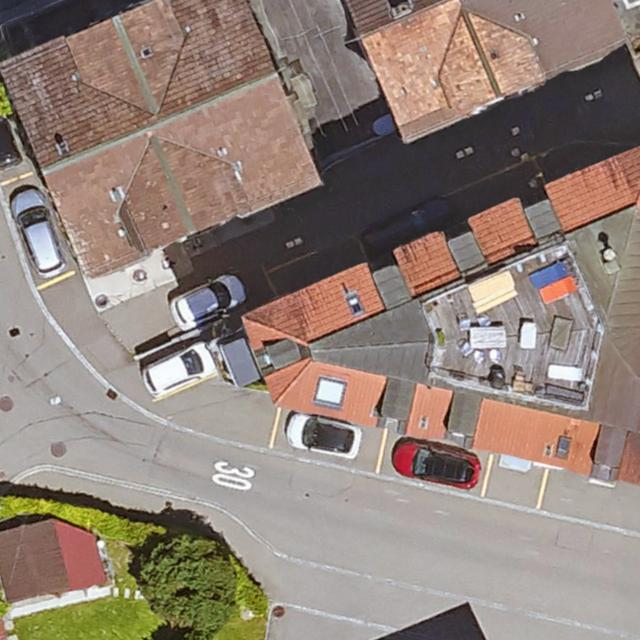tree: (136, 536, 240, 635)
